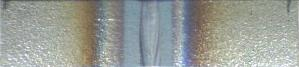soldas: (75, 1, 218, 67)
